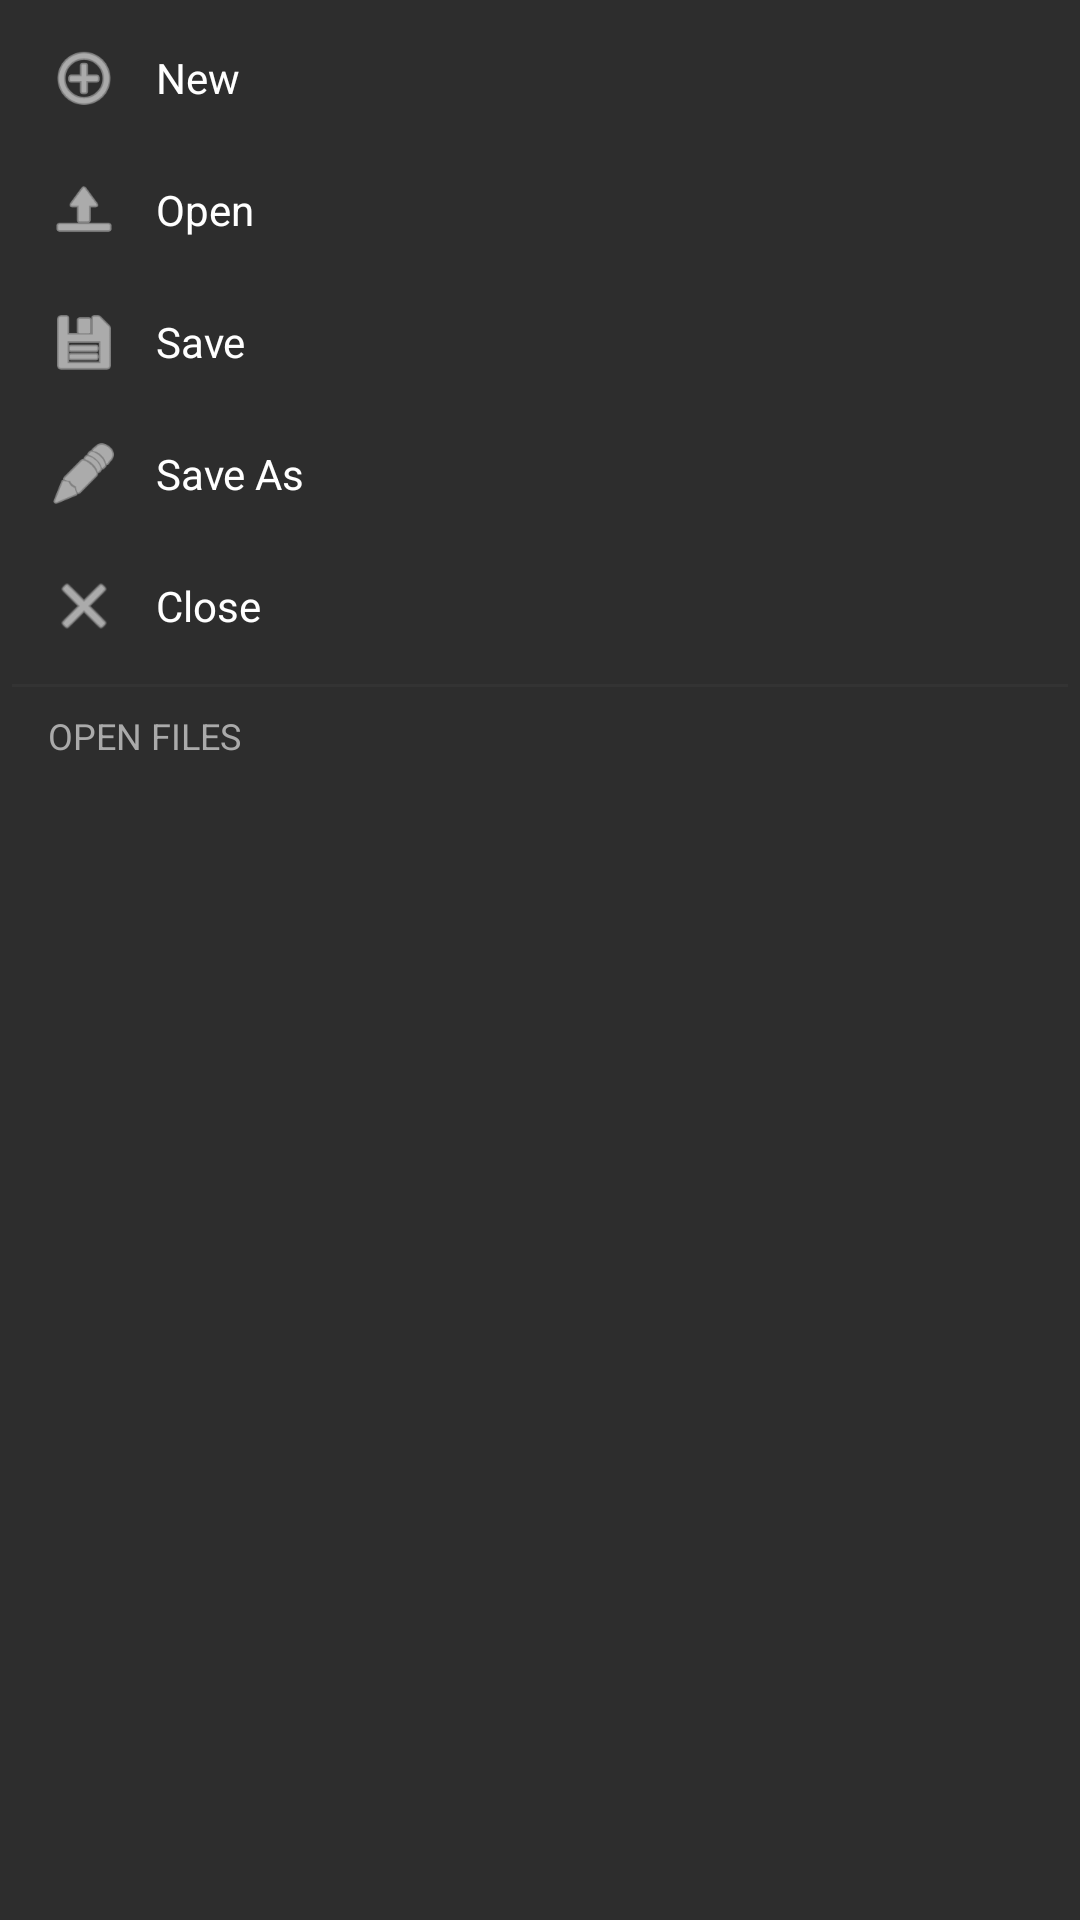

Where icons sit on this 1080*1920 app screen, as (x1, y1, x2, y2):
New file: (57, 52, 111, 105)
